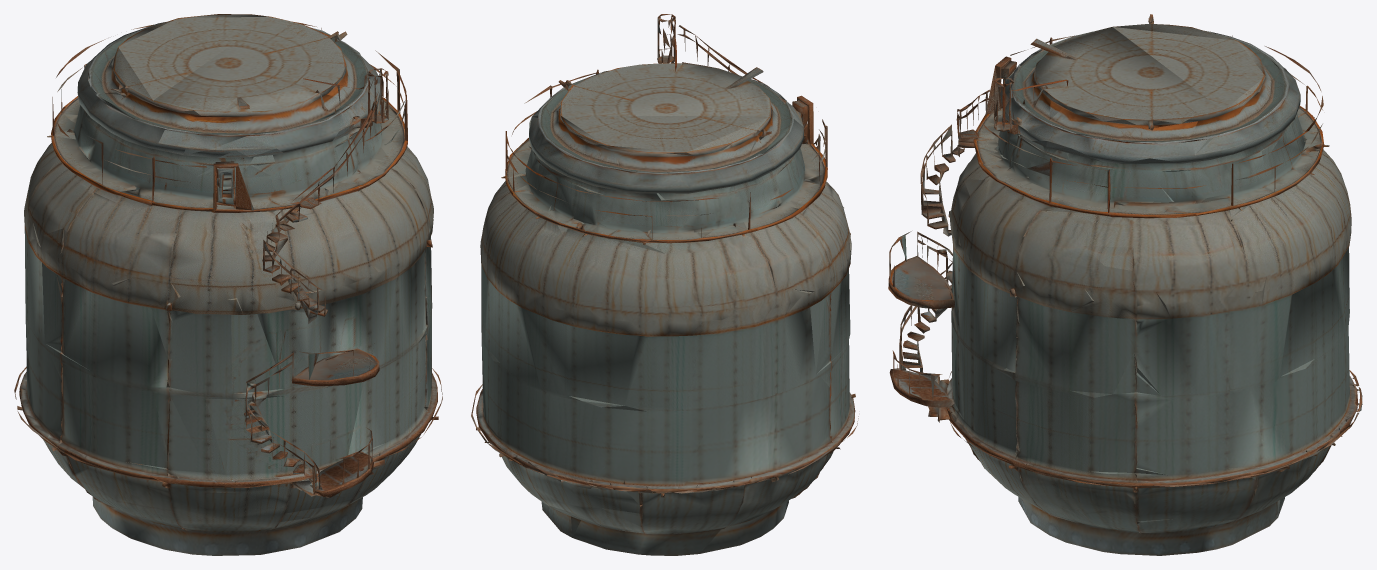
File: Scenery_GasHolder.fbx
3 views of the same model, side by side, from view 1: azimuth 30°, elevation 25°; view 2: azimuth 150°, elevation 25°; view 3: azimuth 270°, elevation 25° (orthographic). The views are drawn at different scales.
Visible parts, largest first — view 1: Mesh_0; view 2: Mesh_0; view 3: Mesh_0.
Part boxes in pixels (x1,y1,x2,y2): Mesh_0: (14, 14, 442, 555); Mesh_0: (471, 14, 858, 555); Mesh_0: (888, 14, 1362, 555).
Bounding box in the file's own units: 158 × 190 × 180.
Materials: 1 (1 with a texture image).
